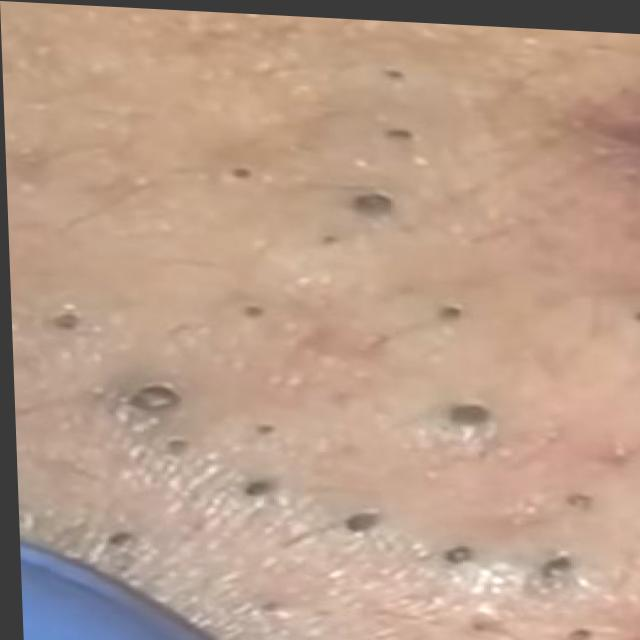dark spot: (115, 377, 193, 424), (426, 392, 496, 435), (228, 461, 287, 507), (327, 502, 390, 537), (414, 288, 471, 323), (429, 534, 485, 568), (345, 182, 396, 219), (518, 539, 575, 572)
